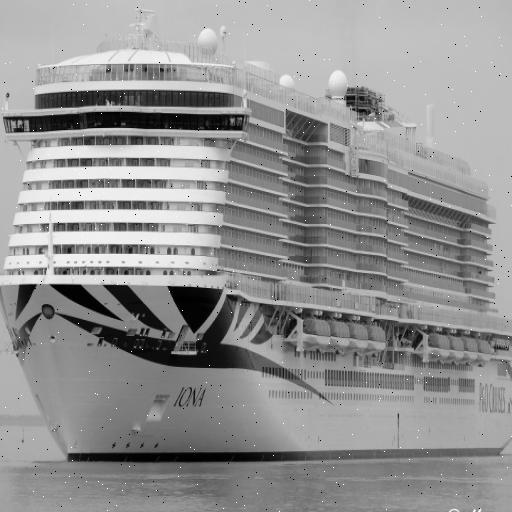cruises: (1, 6, 512, 470)
